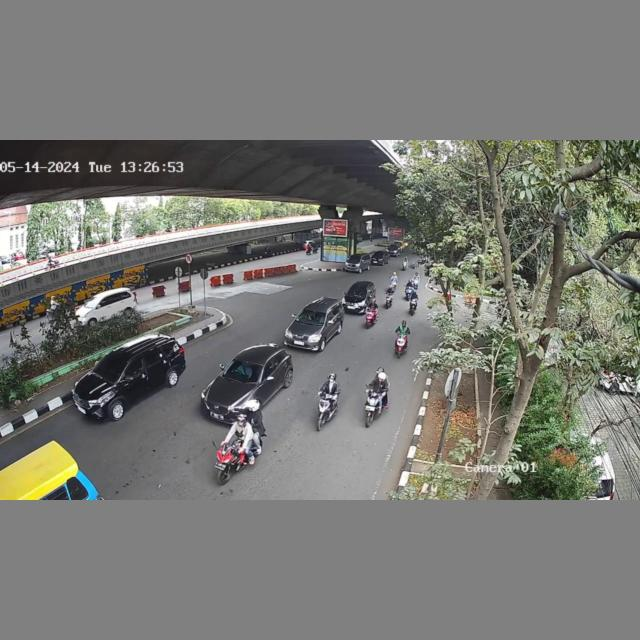windshield: (225, 360, 264, 386), (94, 356, 128, 382), (295, 306, 328, 328), (346, 284, 367, 298)
